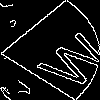W: (25, 25, 100, 92)
